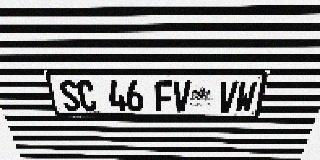4: (107, 80, 127, 111)
6: (125, 80, 144, 112)
C: (76, 80, 98, 111)
F: (155, 81, 173, 112)
S: (58, 80, 81, 111)
V: (217, 81, 239, 112), (173, 81, 191, 112)
W: (234, 81, 258, 112)
